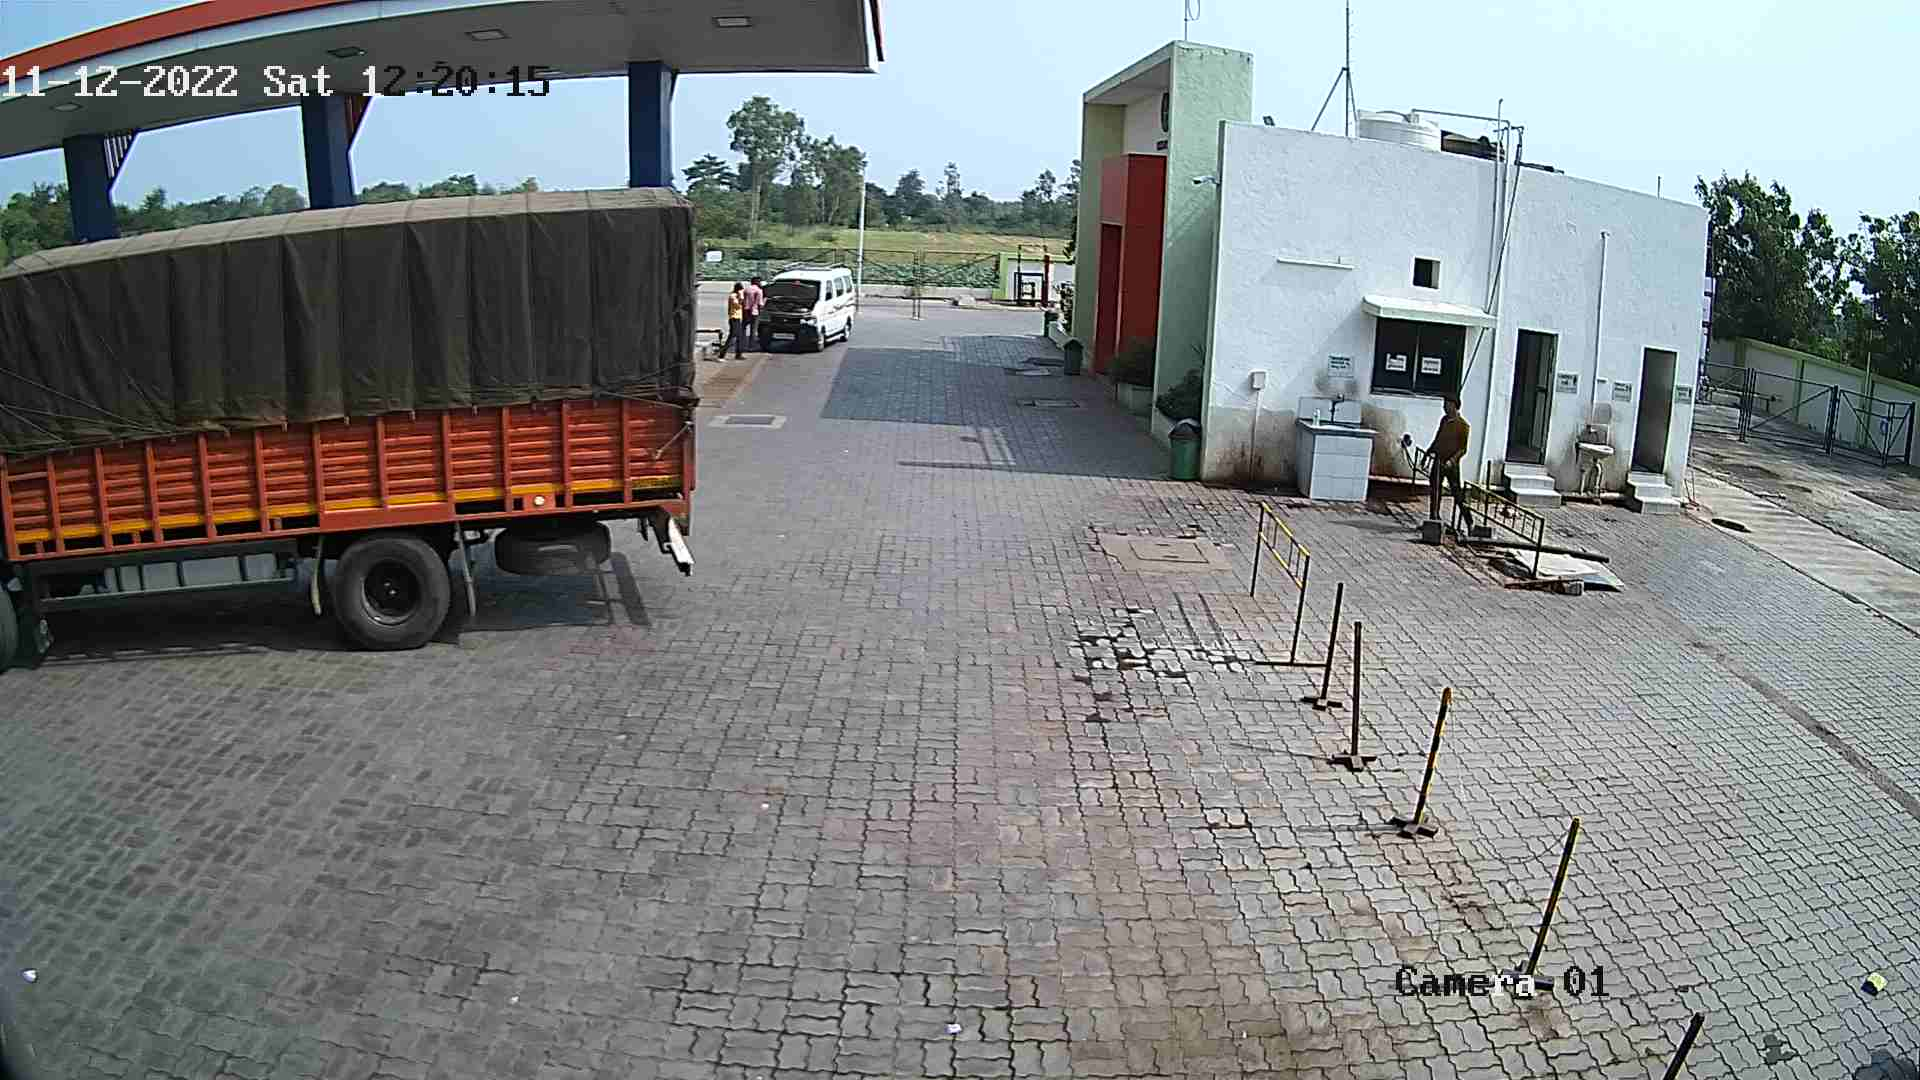Car: (741, 251, 868, 361)
HMV: (1, 171, 715, 680)
